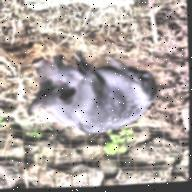boar: (13, 44, 163, 146)
